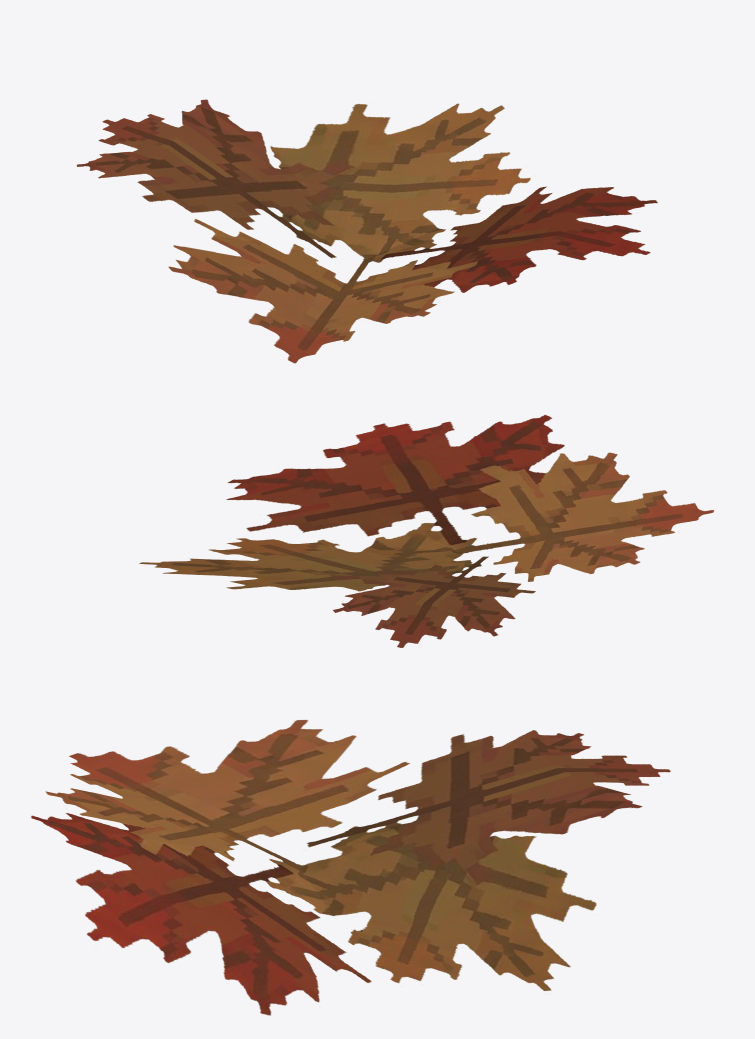
Rendered from leaf_pile.glb.
3 views of the same model, one above another, from view 1: azimuth 30°, elevation 25°; view 2: azimuth 150°, elevation 25°; view 3: azimuth 270°, elevation 25° (orthographic). The views are drawn at different scales.
Visible parts, largest first — view 1: Plane.001; view 2: Plane.001; view 3: Plane.001.
Boxes of the visible parts, left/top/right/bottom form: Plane.001: left=76, top=99, right=657, bottom=363; Plane.001: left=139, top=415, right=713, bottom=647; Plane.001: left=31, top=720, right=670, bottom=1015.
Size of the model in its own units: 0.6063 by 0.0802 by 0.6853.
1 material, 1 textured.
